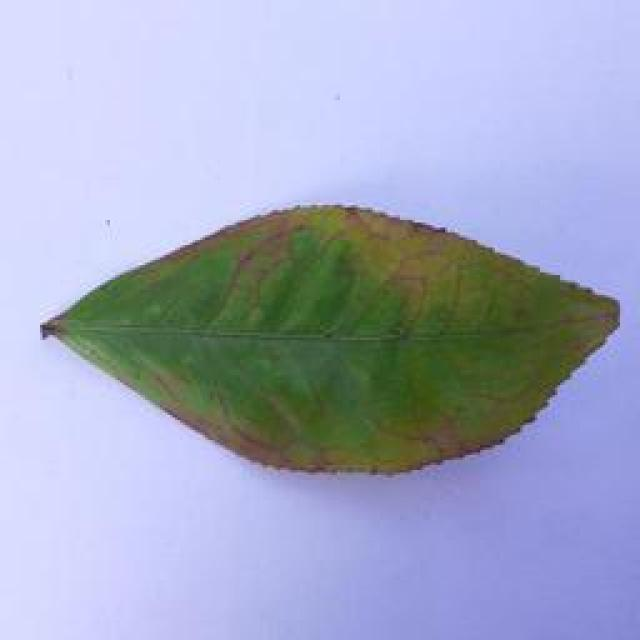Red Leaf Spot: (45, 187, 629, 477)
